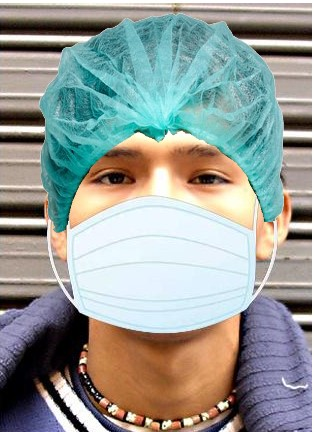with_mask_and_cap: (45, 22, 284, 336)
